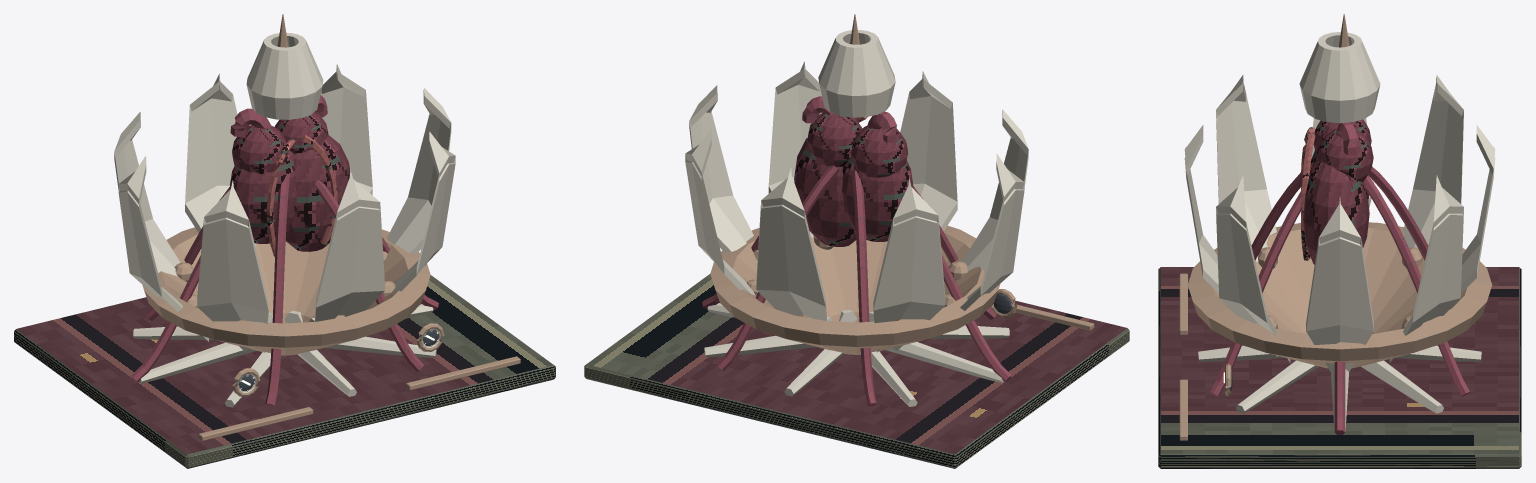
Rendered from heart_pulse_mandala.glb.
3 views of the same model, side by side, from view 1: azimuth 30°, elevation 25°; view 2: azimuth 150°, elevation 25°; view 3: azimuth 270°, elevation 25° (orthographic). The views are drawn at different scales.
Parts seen in each view (by area): view 1: heart_pulse_mandala_warm, heart_pulse_mandala_petrol, heart_pulse_mandala_worn, heart_pulse_mandala_bruised, heart_pulse_mandala_suture; view 2: heart_pulse_mandala_warm, heart_pulse_mandala_petrol, heart_pulse_mandala_bruised, heart_pulse_mandala_worn; view 3: heart_pulse_mandala_petrol, heart_pulse_mandala_warm, heart_pulse_mandala_worn, heart_pulse_mandala_bruised, heart_pulse_mandala_suture.
Boxes of the visible parts, left/top/right/bottom form: heart_pulse_mandala_warm: left=114, top=32, right=455, bottom=407; heart_pulse_mandala_petrol: left=14, top=275, right=555, bottom=468; heart_pulse_mandala_worn: left=142, top=14, right=520, bottom=440; heart_pulse_mandala_bruised: left=131, top=95, right=438, bottom=406; heart_pulse_mandala_suture: left=266, top=135, right=337, bottom=256; heart_pulse_mandala_warm: left=685, top=30, right=1028, bottom=406; heart_pulse_mandala_petrol: left=584, top=274, right=1129, bottom=468; heart_pulse_mandala_bruised: left=702, top=96, right=1011, bottom=406; heart_pulse_mandala_worn: left=710, top=14, right=1094, bottom=354; heart_pulse_mandala_petrol: left=1158, top=267, right=1521, bottom=468; heart_pulse_mandala_warm: left=1184, top=32, right=1495, bottom=434; heart_pulse_mandala_worn: left=1179, top=14, right=1491, bottom=440; heart_pulse_mandala_bruised: left=1210, top=119, right=1469, bottom=434; heart_pulse_mandala_suture: left=1300, top=127, right=1315, bottom=260.
Bounding box in the file's own units: 6.4 × 5.71 × 5.2.
7 materials, 3 textured.
